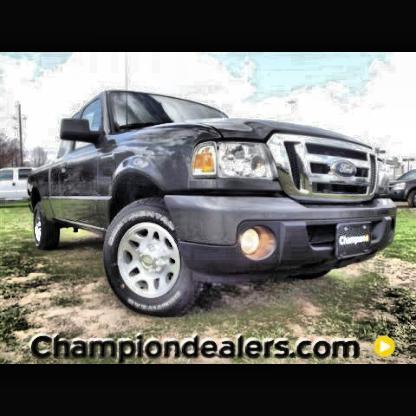Ford Ranger SuperCab 2011: (25, 89, 402, 319)
